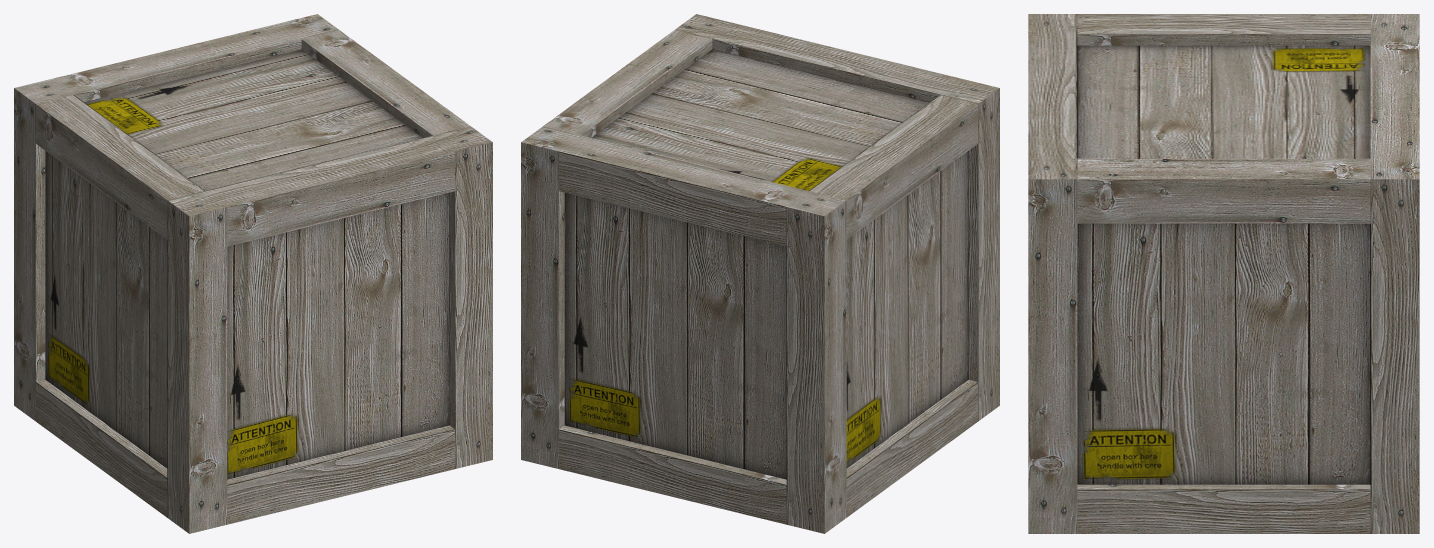
The model's file is woodb1.fbx.
3 renders of one model, left to right at view 1: azimuth 30°, elevation 25°; view 2: azimuth 150°, elevation 25°; view 3: azimuth 270°, elevation 25°, orthographic. The views are drawn at different scales.
Parts seen in each view (by area): view 1: woodb1_Layer1; view 2: woodb1_Layer1; view 3: woodb1_Layer1.
Part boxes in pixels (x1=…): woodb1_Layer1: x1=14, y1=14, x2=492, y2=533; woodb1_Layer1: x1=521, y1=14, x2=999, y2=533; woodb1_Layer1: x1=1028, y1=14, x2=1419, y2=533.
Bounding box in the file's own units: 64 × 64 × 64.
Materials: 1 (1 with a texture image).
